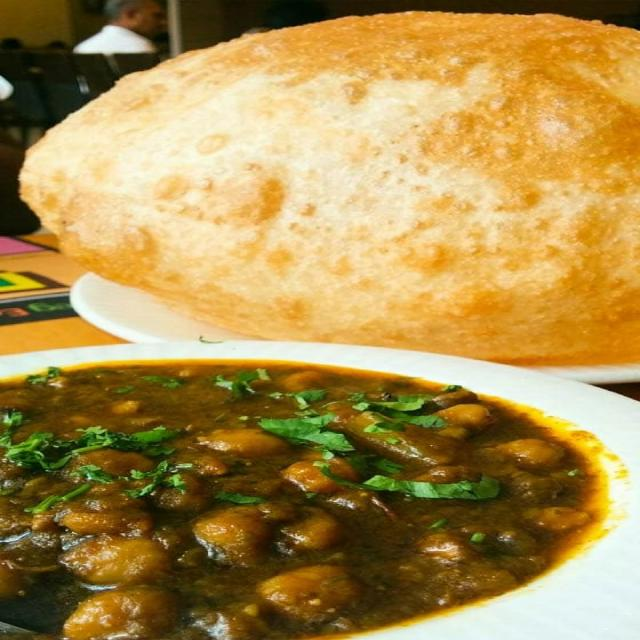Bhatura: (21, 13, 640, 358)
Chole: (9, 360, 600, 638)
